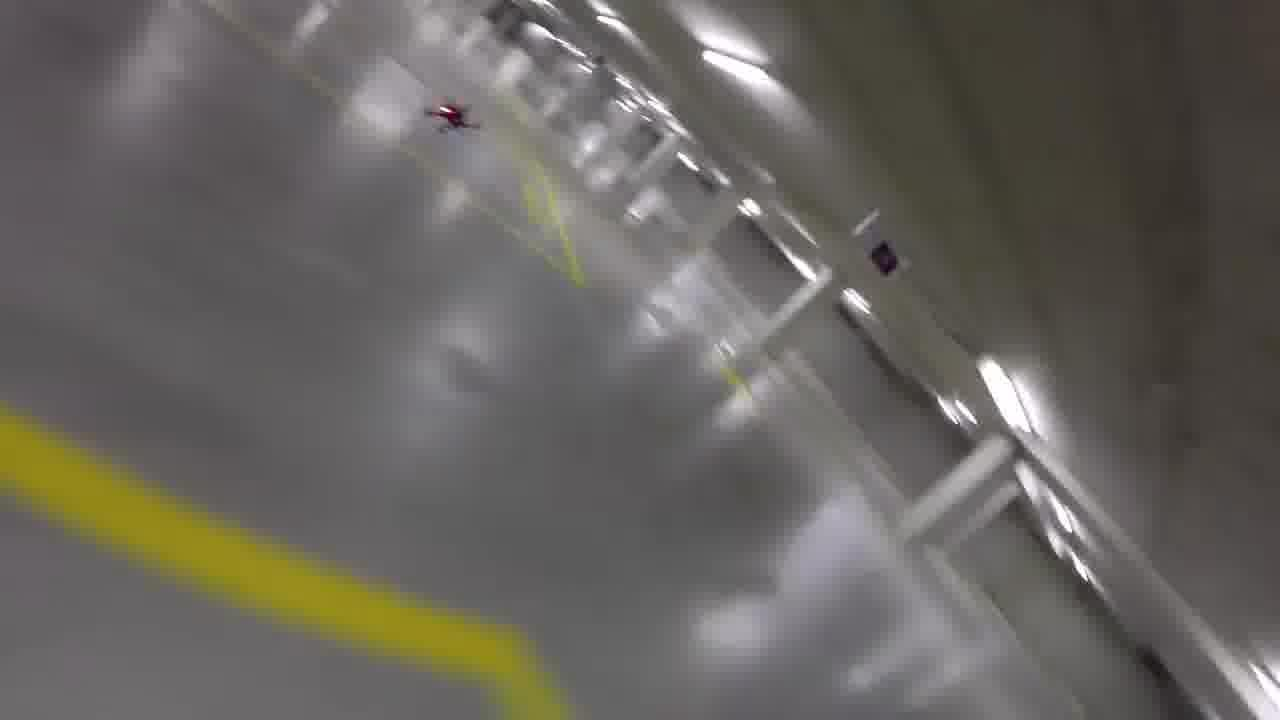drone: (421, 95, 484, 146)
